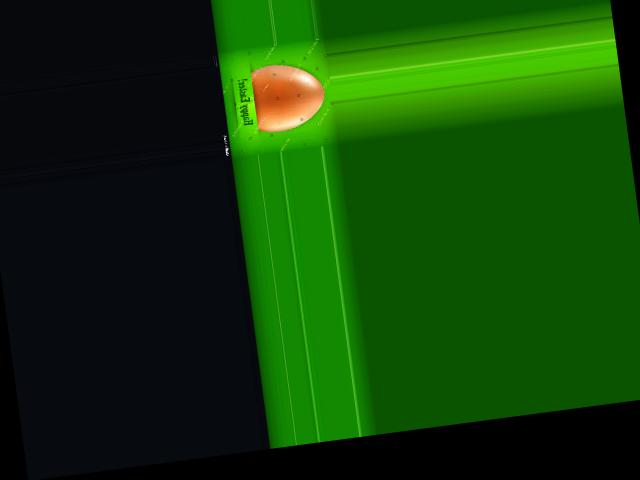egg: (250, 58, 328, 133)
